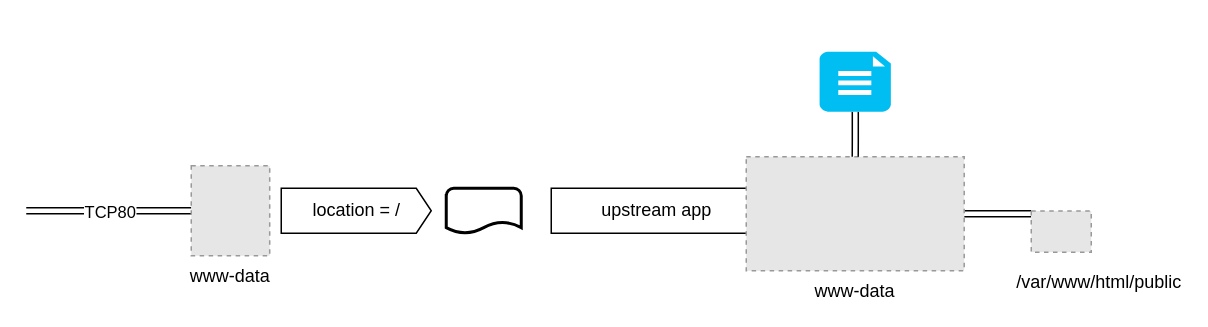
This 1208x327 diagram has some shape labels left out. Grey dashed boxes stand in for pictures. The centre of each missing label's shape, as x and y in pixels:
"/usr/local/etc/php-fpm.d/app.conf" belongs at pixel 854 81.
"/usr/local/var/run/upstream.php-fpm.sock" belongs at pixel 483 210.
